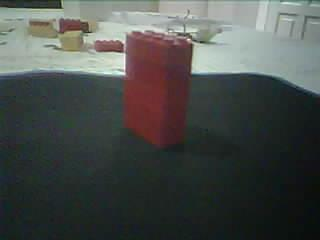lego: (122, 30, 194, 148), (59, 17, 100, 33), (57, 30, 83, 50), (27, 20, 57, 37), (93, 39, 123, 53)
